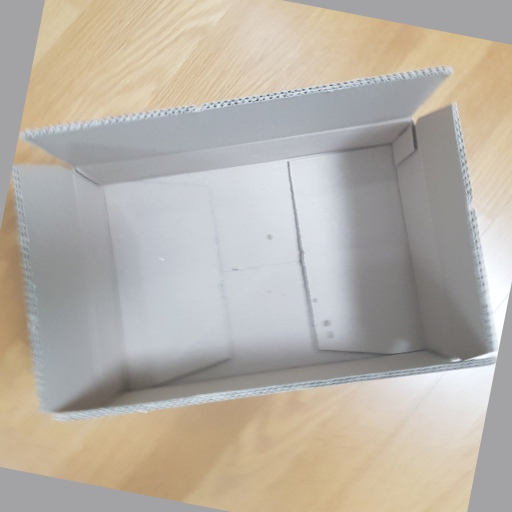Paper_0: (15, 65, 505, 421)
